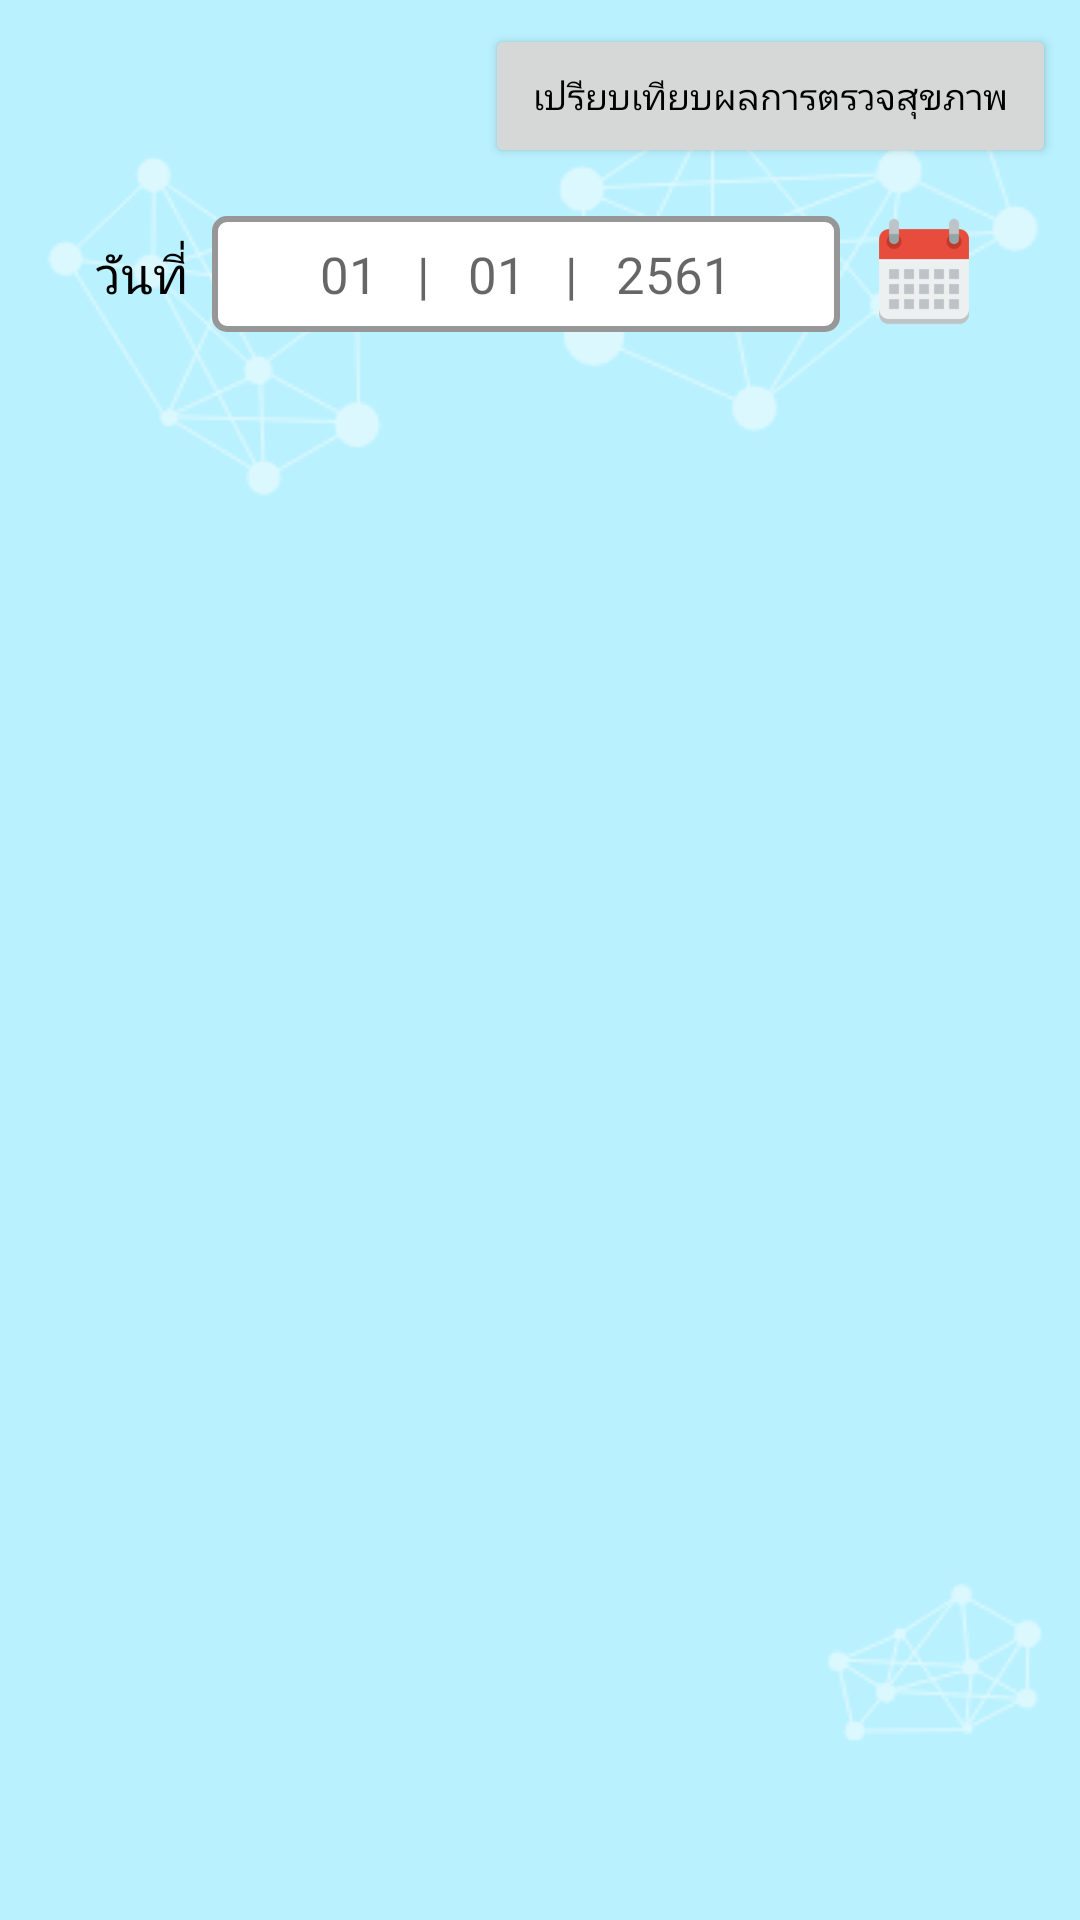

Named icons in this screenshot (1080px x 1920px) and their bounding boxes, (x1, y1, x2, y2):
calendar: (865, 214, 984, 324)
